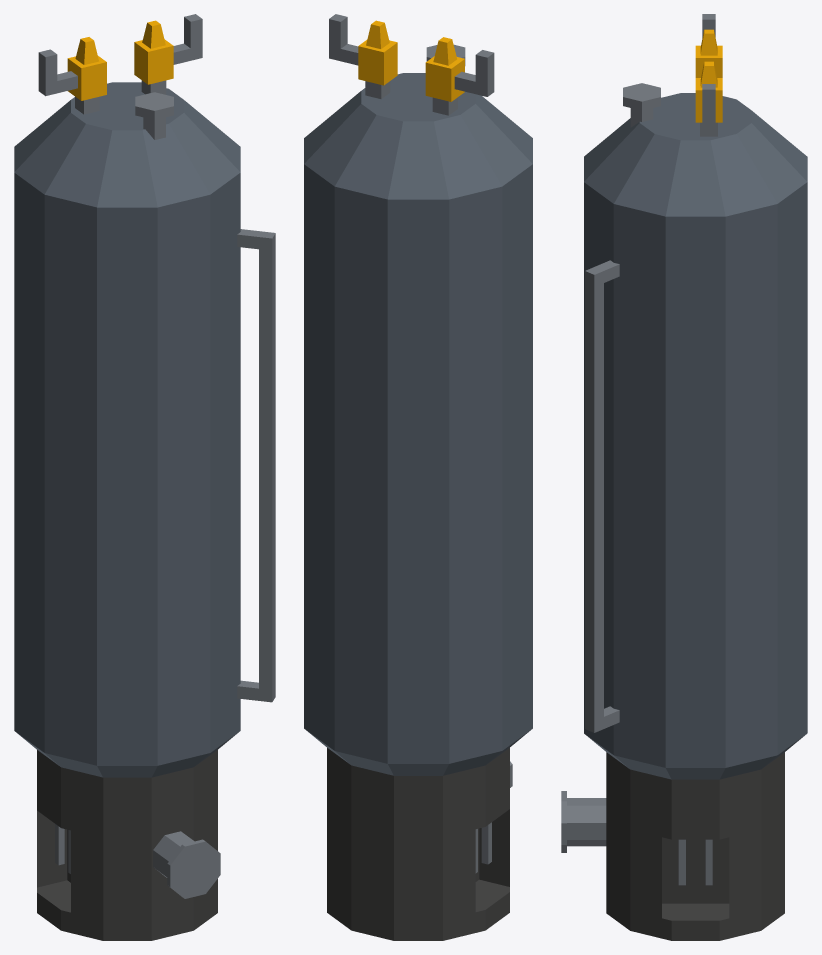
Rendered from pressurizer.glb.
The picture shows the model from 3 angles, left to right: view 1: azimuth 30°, elevation 25°; view 2: azimuth 150°, elevation 25°; view 3: azimuth 270°, elevation 25°; orthographic projection. The views are drawn at different scales.
Visible parts, largest first — view 1: pressurizer; view 2: pressurizer; view 3: pressurizer.
Boxes of the visible parts, x1,y1,x2,y2 form: pressurizer: (14,14,275,940); pressurizer: (304,14,532,940); pressurizer: (561,14,807,940).
Size of the model in its own units: 1 by 4.22 by 1.1.
